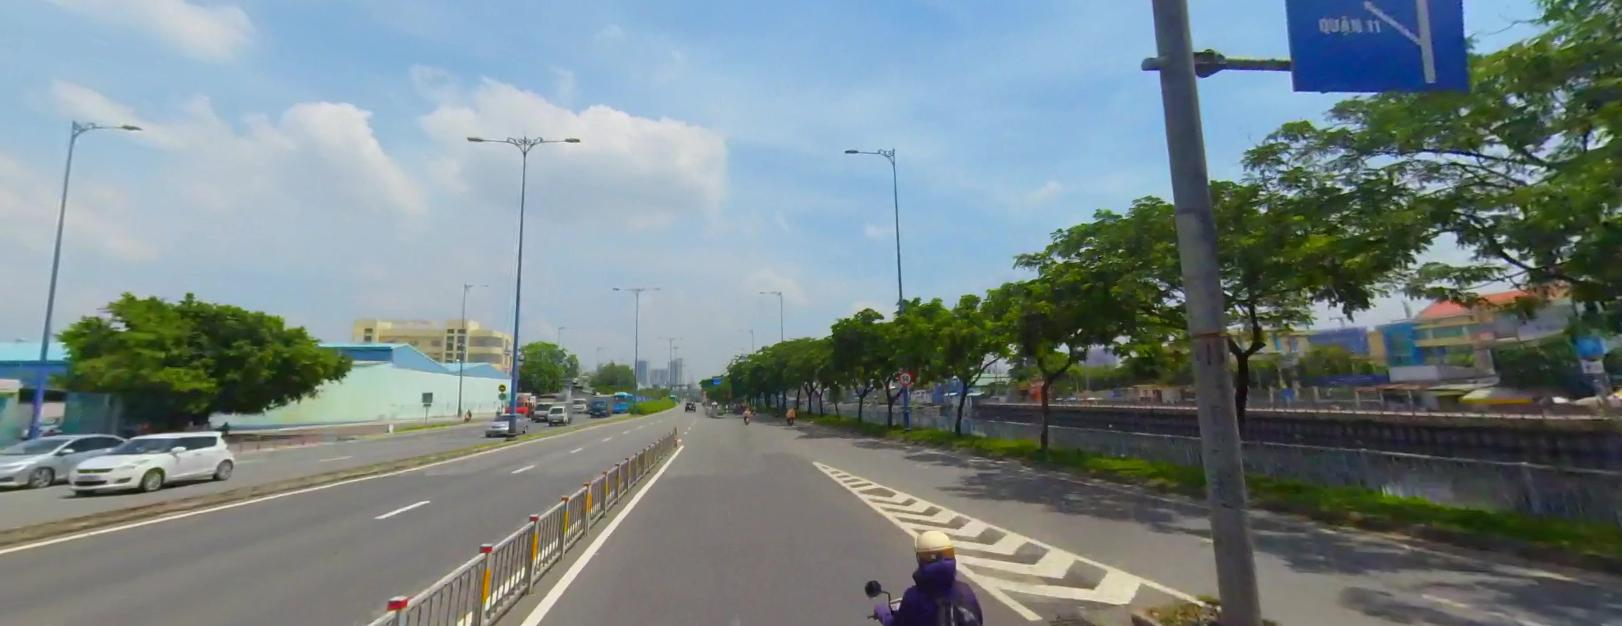Cam nguoc chieu: (498, 382, 505, 389)
Gioi han toc do: (899, 370, 911, 383)
